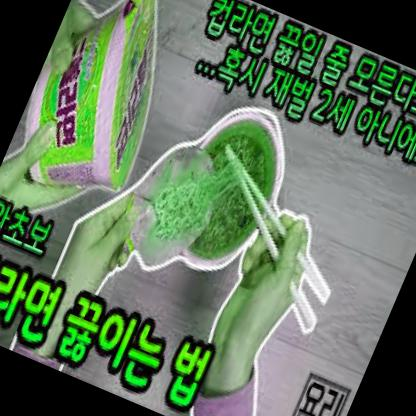Ramen: (0, 0, 205, 214)
